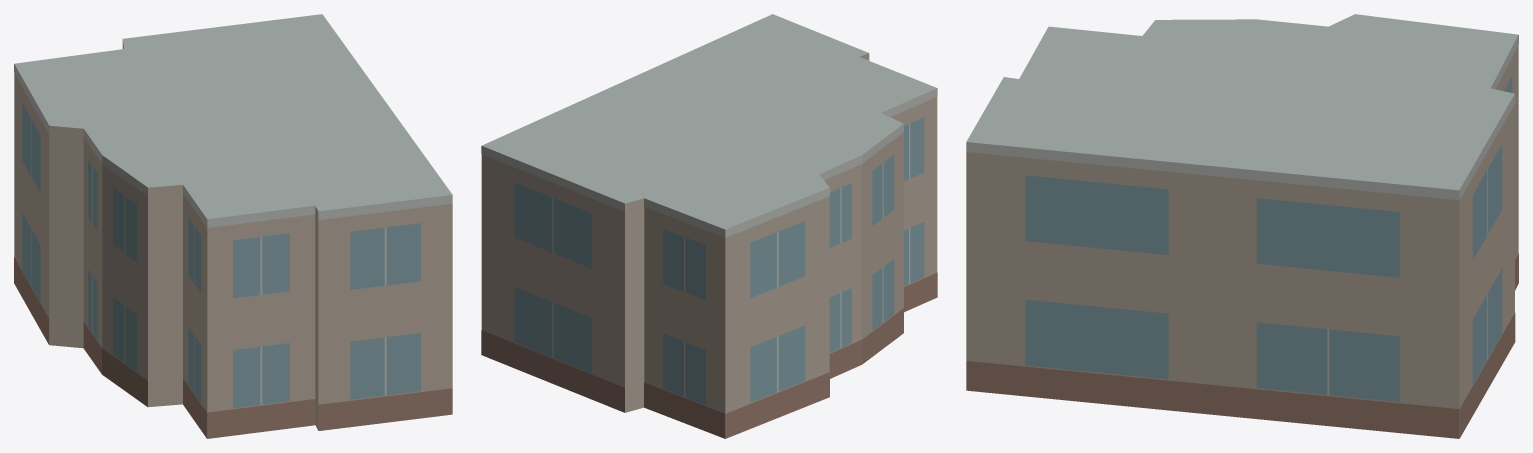
Rendered from survey-upis-32930386.glb.
3 renders of one model, left to right at view 1: azimuth 30°, elevation 25°; view 2: azimuth 150°, elevation 25°; view 3: azimuth 270°, elevation 25°, orthographic. The views are drawn at different scales.
Parts seen in each view (by area): view 1: survey-upis-32930386.tmp; view 2: survey-upis-32930386.tmp; view 3: survey-upis-32930386.tmp.
Part boxes in pixels (left/top/right/bottom): survey-upis-32930386.tmp: left=14, top=14, right=452, bottom=438; survey-upis-32930386.tmp: left=481, top=14, right=937, bottom=438; survey-upis-32930386.tmp: left=966, top=14, right=1518, bottom=438.
Bounding box in the file's own units: 9.29 × 6.1 × 12.3.
